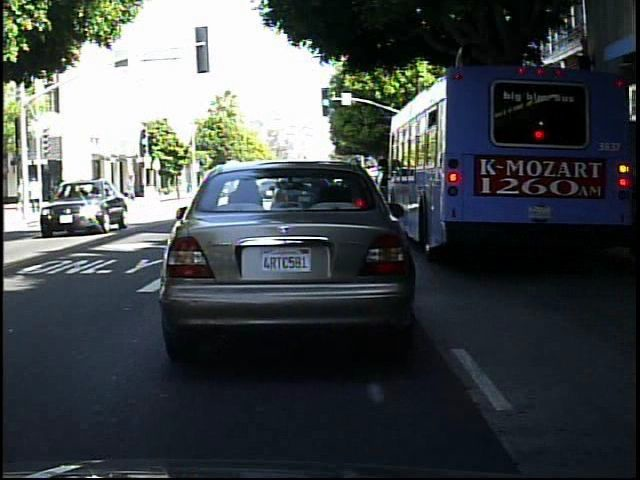person: (73, 174, 91, 213), (58, 174, 75, 214), (14, 174, 30, 216), (29, 173, 44, 214), (14, 176, 31, 209), (123, 170, 141, 201), (51, 178, 61, 199)
